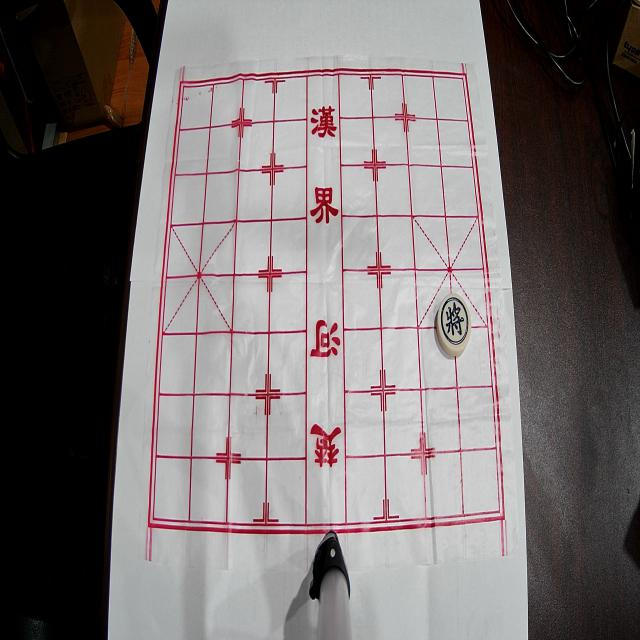black-general: (436, 294, 472, 356)
